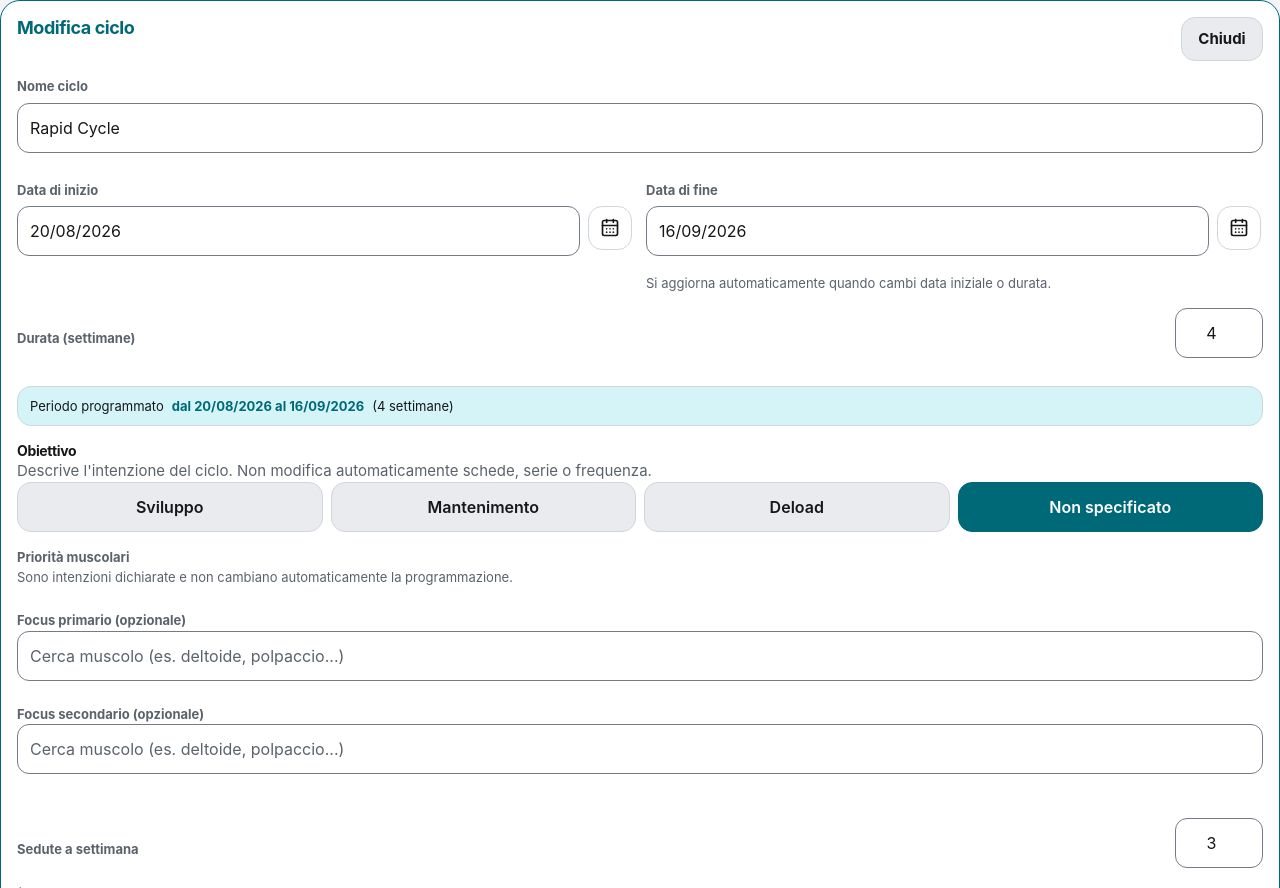
Test: Challenger 2 Empirical Verification: CycleEditor UI & Two-Way Binding › Scenario 12: Rapid text input deletions and out-of-range weeks recovery
// User clears duration input
Step 1. Clear the number field with id "cycle-duration-weeks" → (1219, 333), box left=1175, top=308, right=1263, bottom=358
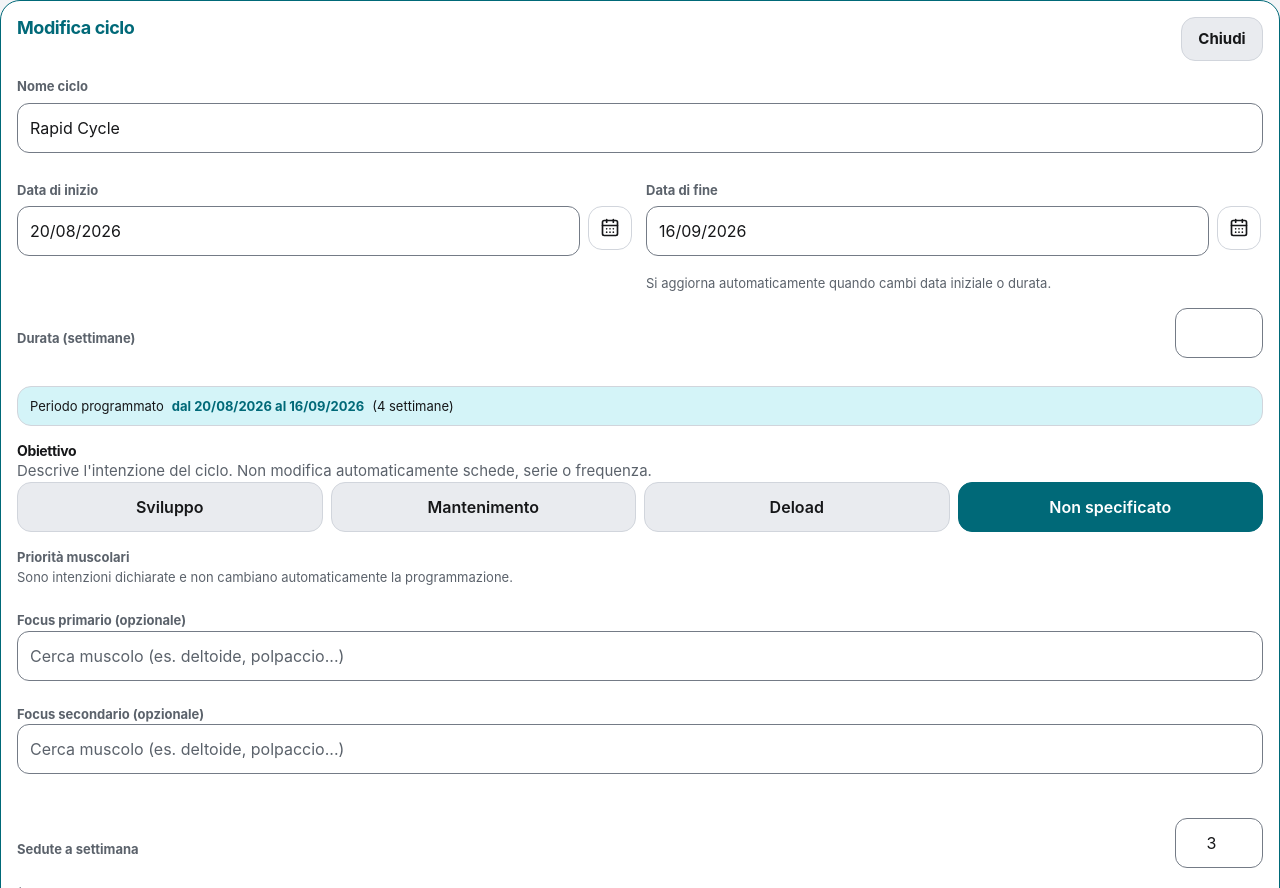
Check: the field with id "cycle-end-date" holds "16/09/2026", box left=646, top=206, right=1209, bottom=256
// User enters '0'
Step 2. Type "0" into the number field with id "cycle-duration-weeks" → (1219, 333), box left=1175, top=308, right=1263, bottom=358
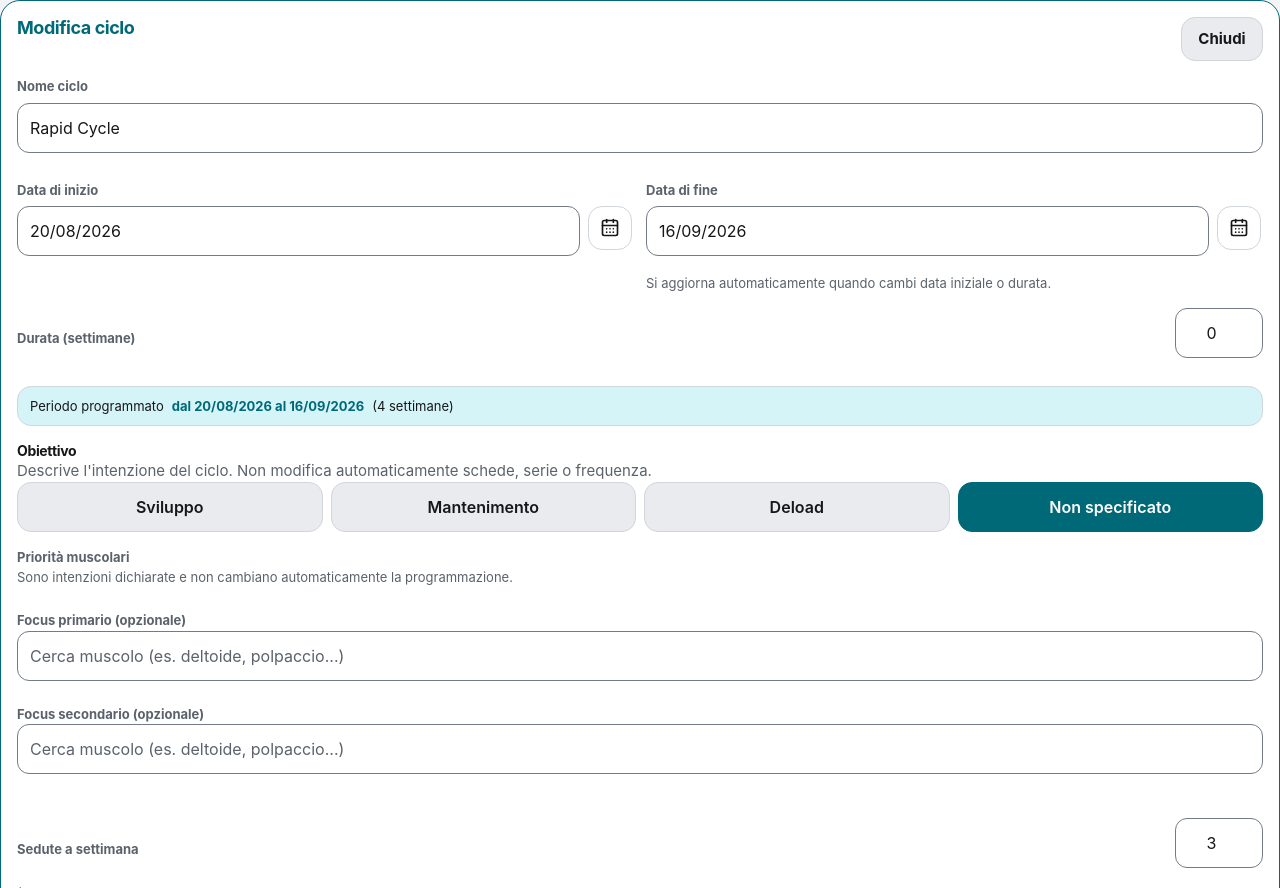
Check: the field with id "cycle-end-date" holds "16/09/2026", box left=646, top=206, right=1209, bottom=256
// User enters '12'
Step 3. Replace the text in the number field with id "cycle-duration-weeks" with "12" → (1219, 333), box left=1175, top=308, right=1263, bottom=358
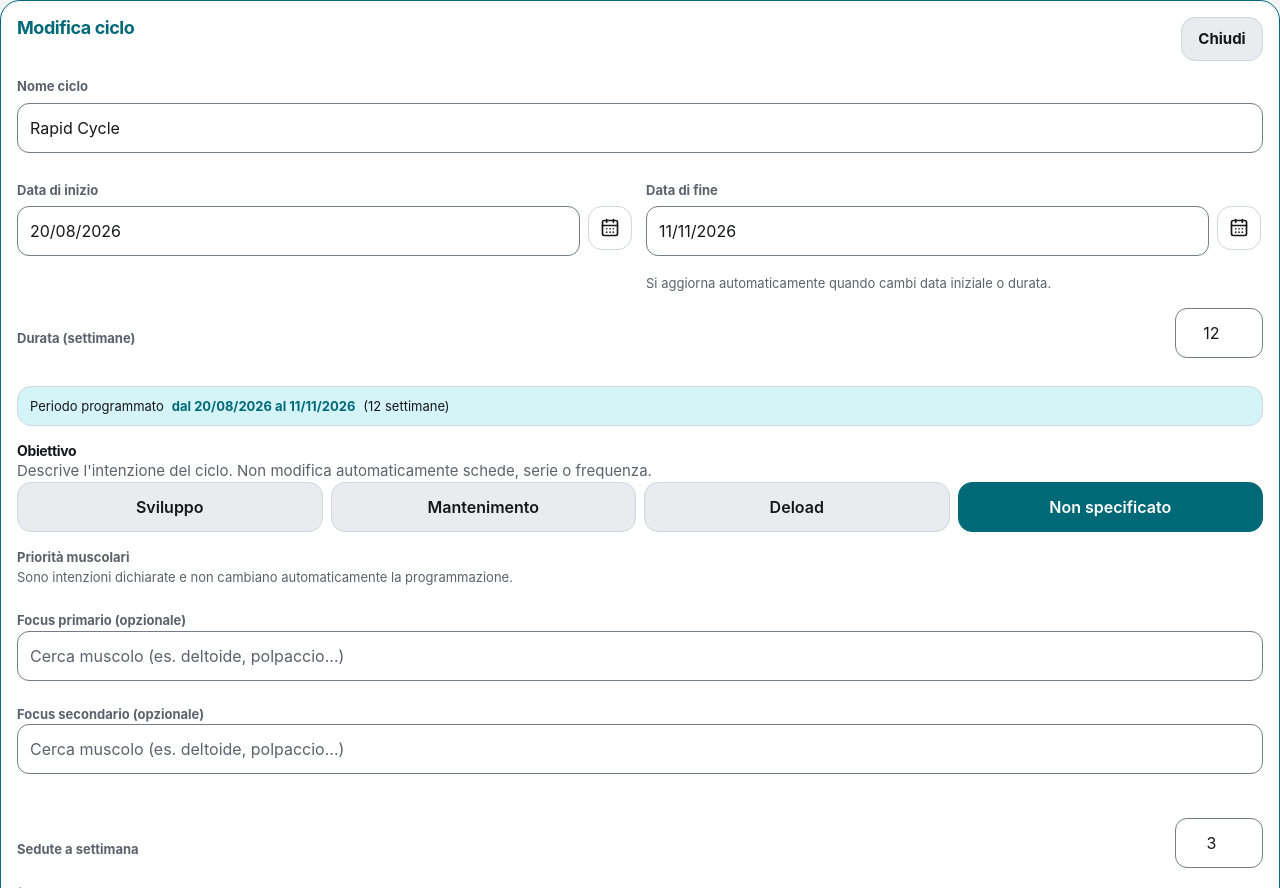
Check: the field with id "cycle-end-date" holds "11/11/2026", box left=646, top=206, right=1209, bottom=256
